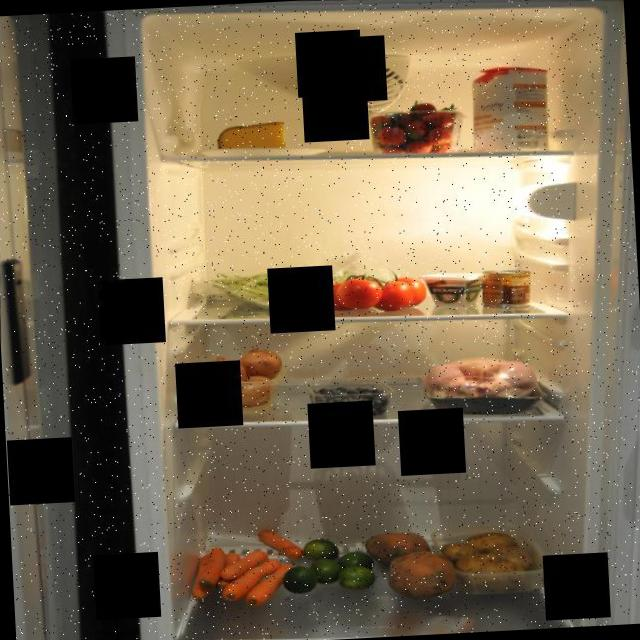Carne pollo: (417, 348, 553, 422)
Cebolla: (193, 343, 287, 412)
Patata: (439, 523, 547, 599)
Queso: (214, 118, 288, 154)
Tomate: (315, 264, 432, 318)
Zanahoria: (182, 524, 308, 612)
